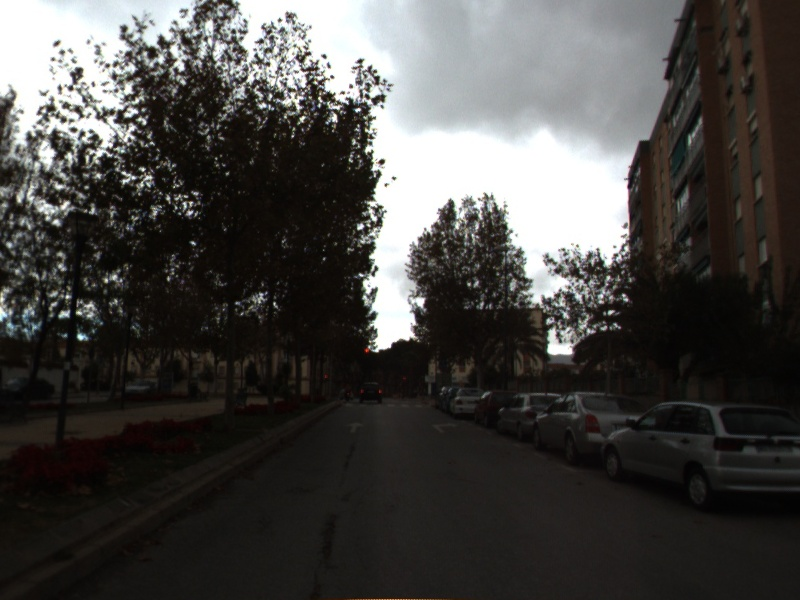RIGHT: (429, 420, 460, 436)
STRAIGHT: (343, 420, 366, 436)
